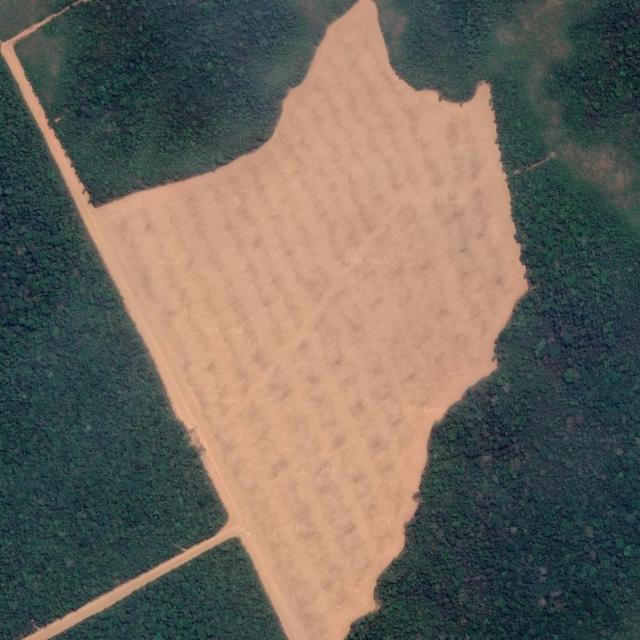noVegetation: (19, 1, 528, 637)
vegetation: (351, 3, 640, 637), (0, 60, 225, 636), (19, 1, 349, 203)
